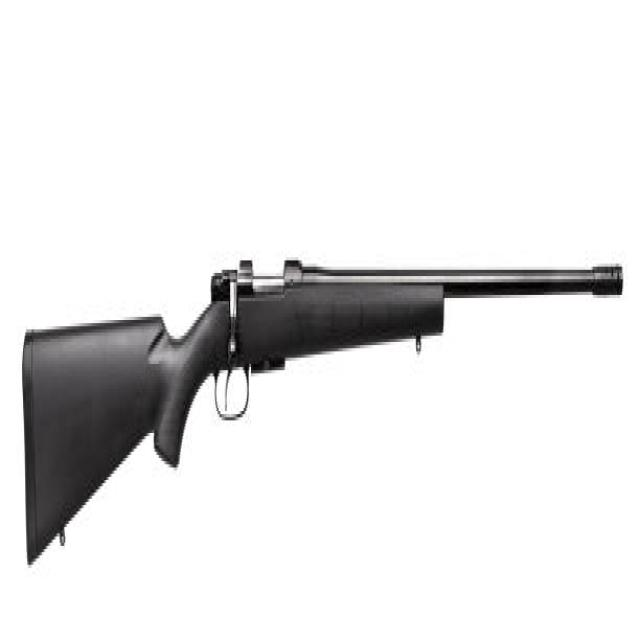rifle: (18, 239, 626, 577)
